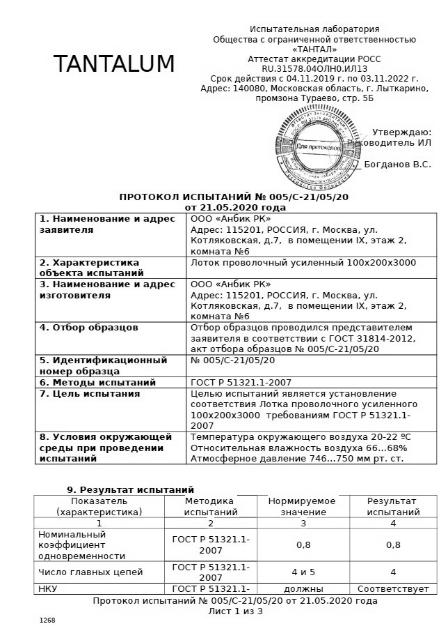stamp: (272, 107, 364, 191)
